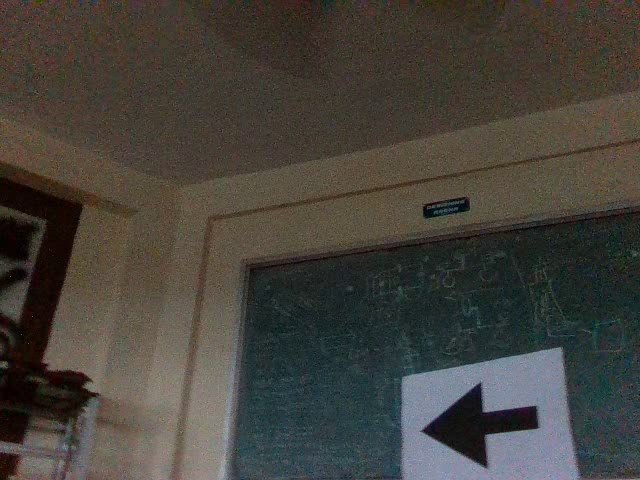Left: (417, 378, 545, 470)
